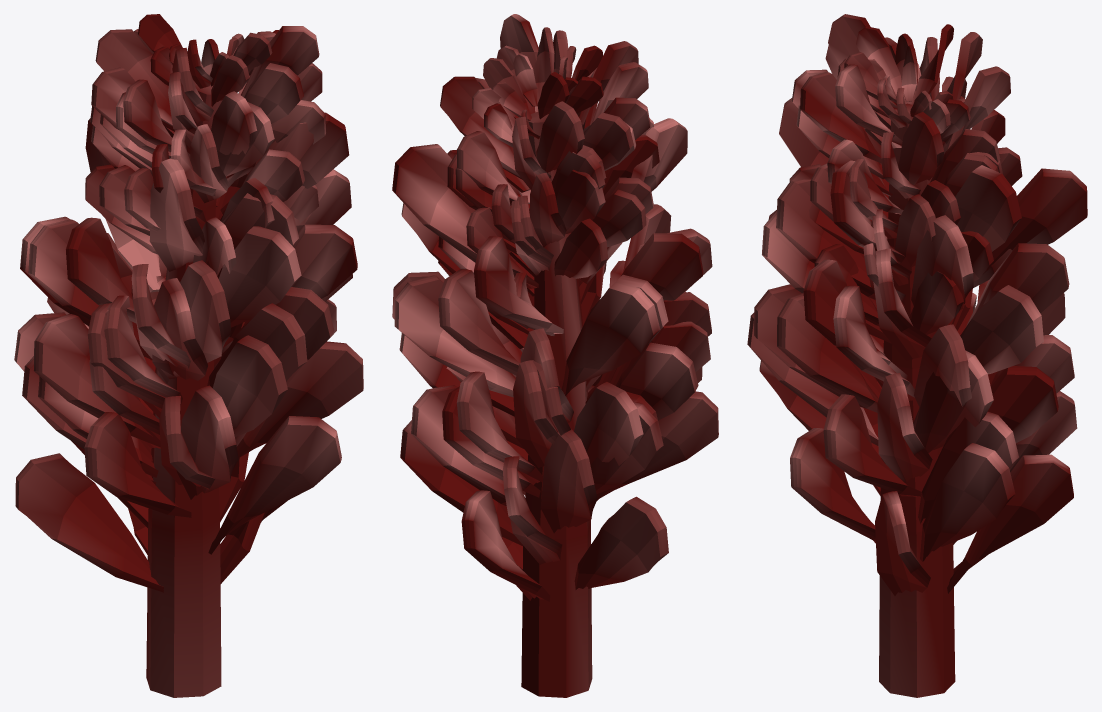
Rendered from AntonioCenarioFase1.fbx_PlantaVermelha.fbx.
The picture shows the model from 3 angles, left to right: view 1: azimuth 30°, elevation 25°; view 2: azimuth 150°, elevation 25°; view 3: azimuth 270°, elevation 25°; orthographic projection. The views are drawn at different scales.
Visible parts, largest first — view 1: PlantaVermelha; view 2: PlantaVermelha; view 3: PlantaVermelha.
Boxes of the visible parts, x1=… form: PlantaVermelha: x1=14, y1=14, x2=363, y2=697; PlantaVermelha: x1=392, y1=14, x2=718, y2=697; PlantaVermelha: x1=747, y1=14, x2=1087, y2=697.
Size of the model in its own units: 184 by 389 by 185.
